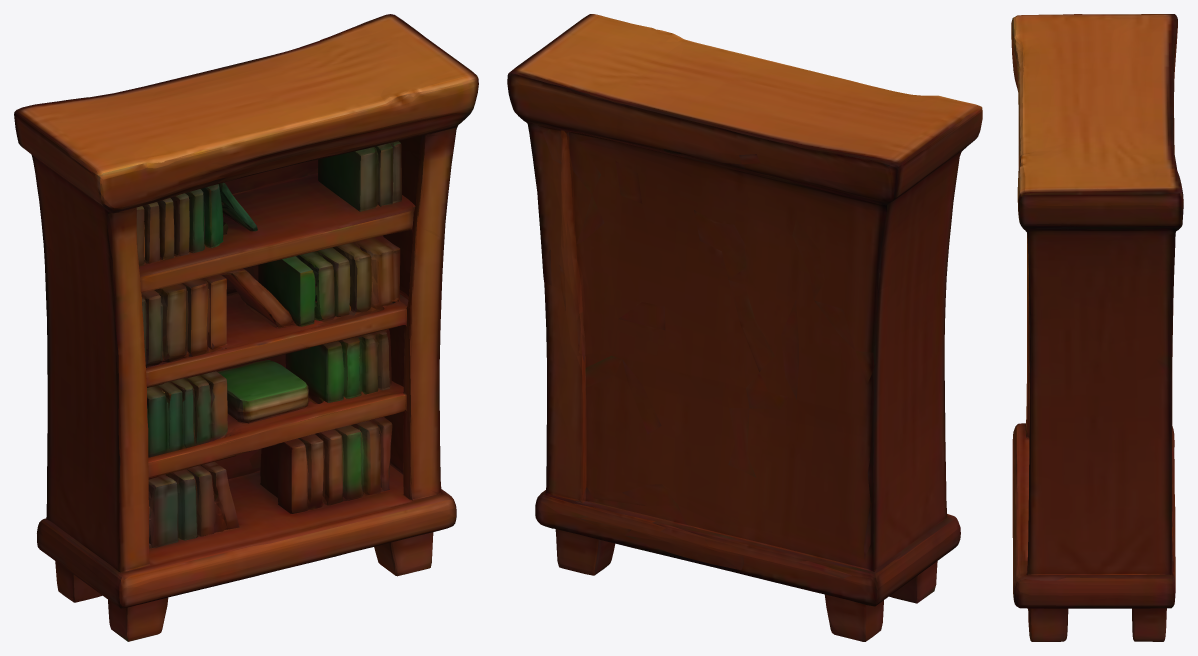
Rendered from bookcase.glb.
3 renders of one model, left to right at view 1: azimuth 30°, elevation 25°; view 2: azimuth 150°, elevation 25°; view 3: azimuth 270°, elevation 25°, orthographic. The views are drawn at different scales.
Parts seen in each view (by area): view 1: world.001; view 2: world.001; view 3: world.001.
Boxes of the visible parts, bbox=[...] form: world.001: bbox=[14, 14, 478, 641]; world.001: bbox=[507, 14, 982, 641]; world.001: bbox=[1011, 14, 1183, 641].
Bounding box in the file's own units: 0.8271 × 0.9995 × 0.3327.
1 material, 1 textured.
